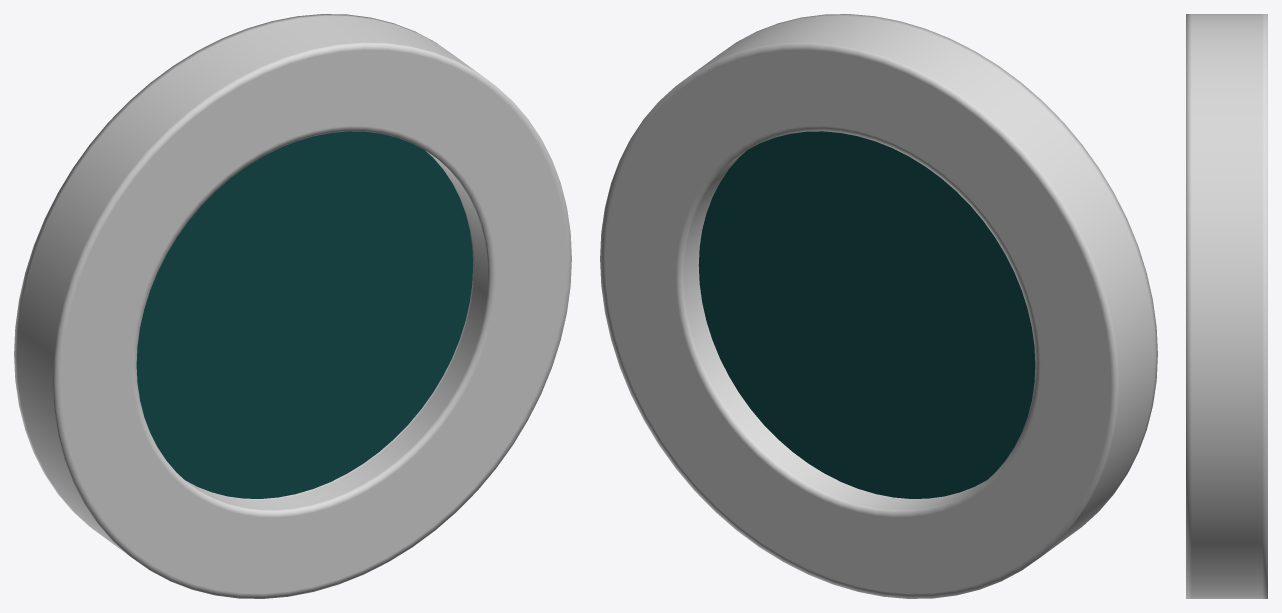
Rendered from Prop_Coin_01.fbx.
3 renders of one model, left to right at view 1: azimuth 30°, elevation 25°; view 2: azimuth 150°, elevation 25°; view 3: azimuth 270°, elevation 25°, orthographic.
Parts seen in each view (by area): view 1: Coin_Mesh, Image_Mesh; view 2: Coin_Mesh, Image_Mesh; view 3: Coin_Mesh.
Part boxes in pixels (box(x1,y1,x2,y2)): Coin_Mesh: box(14, 14, 571, 598); Image_Mesh: box(136, 131, 473, 498); Coin_Mesh: box(600, 14, 1157, 598); Image_Mesh: box(698, 131, 1035, 498); Coin_Mesh: box(1186, 14, 1267, 598).
Size of the model in its own units: 12 by 12 by 1.68.
